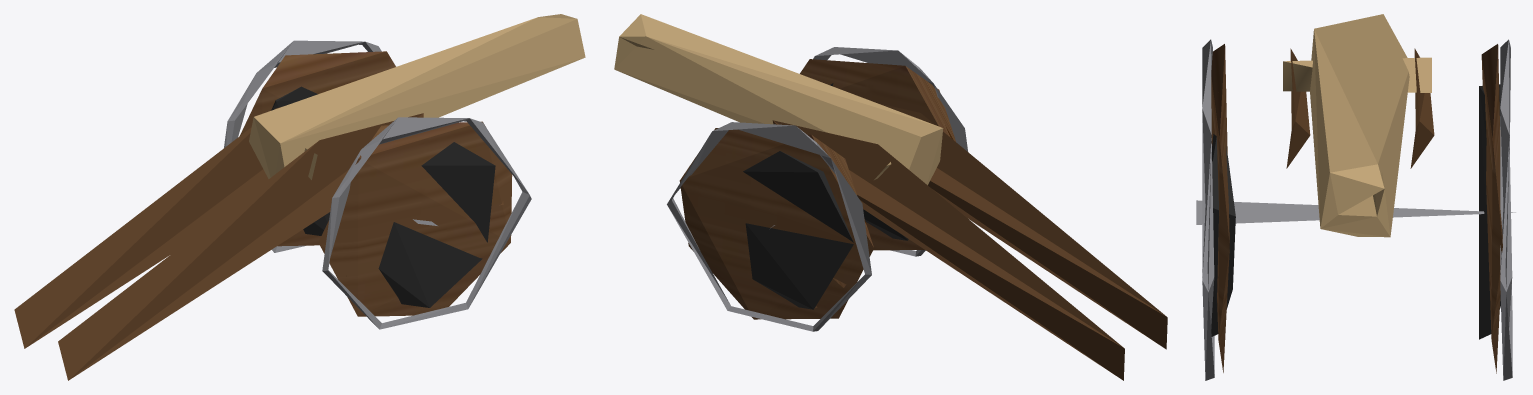
Rendered from field_cannon_lod2.glb.
The picture shows the model from 3 angles, left to right: view 1: azimuth 30°, elevation 25°; view 2: azimuth 150°, elevation 25°; view 3: azimuth 270°, elevation 25°; orthographic projection. The views are drawn at different scales.
Parts seen in each view (by area): view 1: m; view 2: m; view 3: m.
Boxes of the visible parts, x1,y1,x2,y2 form: m: (14,14,585,380); m: (614,14,1167,380); m: (1196,14,1515,380).
Size of the model in its own units: 3.54 by 1.43 by 1.3.
4 materials, 1 textured.
